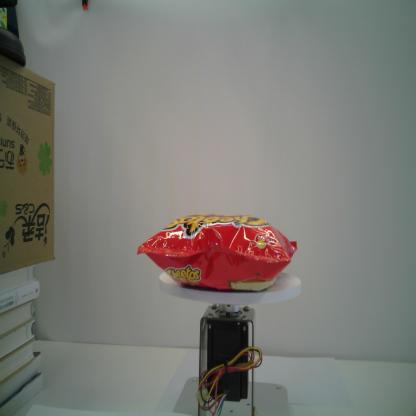Puffed Food: (137, 212, 298, 293)
